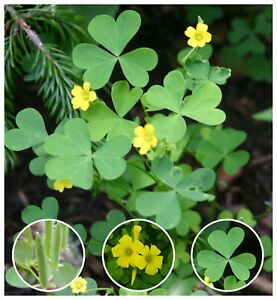oxalis: (43, 27, 268, 212), (199, 228, 265, 288)
